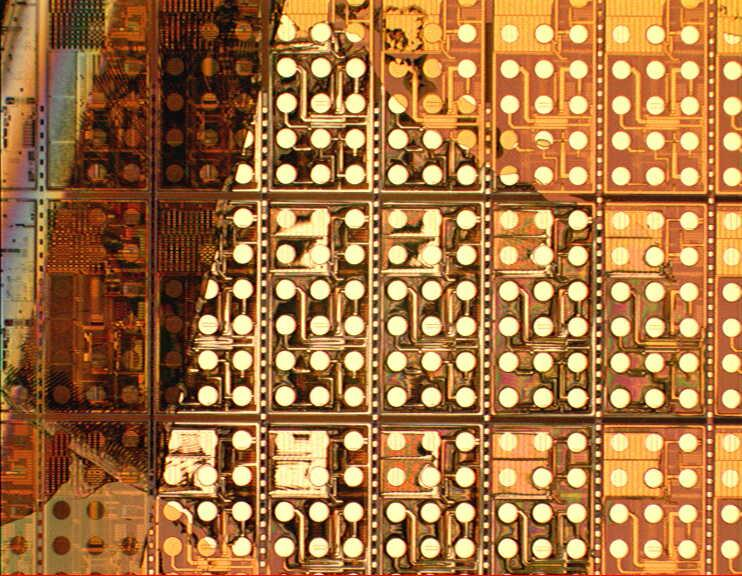COATING BAD: (1, 1, 711, 576)
